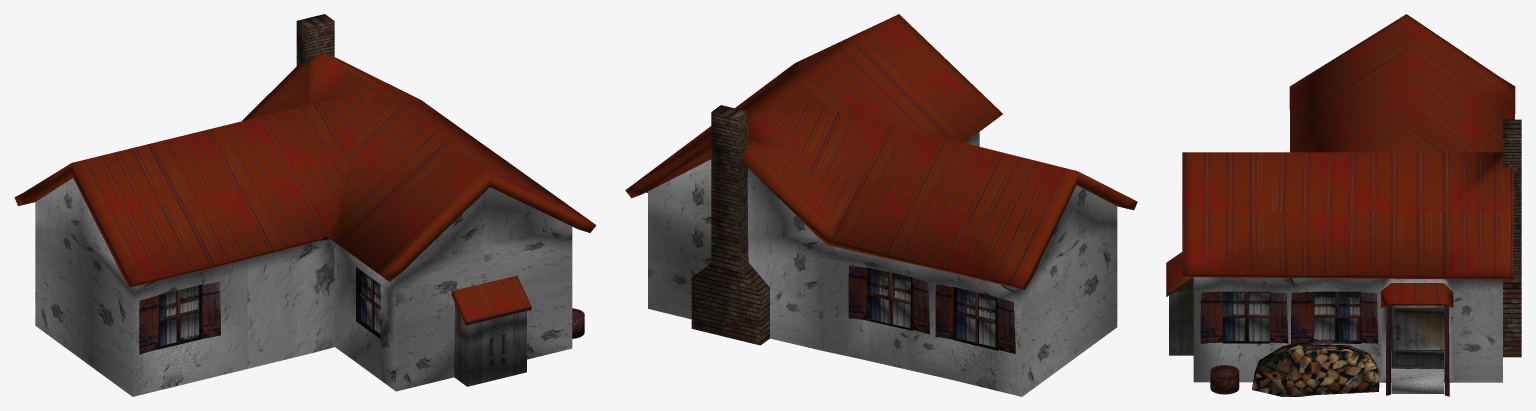
Rendered from lighthouse.glb.
The picture shows the model from 3 angles, left to right: view 1: azimuth 30°, elevation 25°; view 2: azimuth 150°, elevation 25°; view 3: azimuth 270°, elevation 25°; orthographic projection. The views are drawn at different scales.
Parts seen in each view (by area): view 1: Cabin; view 2: Cabin; view 3: Cabin, Woodpile, Chopping Block.
Part boxes in pixels (x1,y1,x2,y2): Cabin: (14,14,596,396); Cabin: (625,14,1137,396); Cabin: (1166,14,1521,396); Woodpile: (1252,342,1379,396); Chopping Block: (1210,365,1239,394).
Size of the model in its own units: 6.74 by 3.56 by 5.24.
2 materials, 1 textured.
